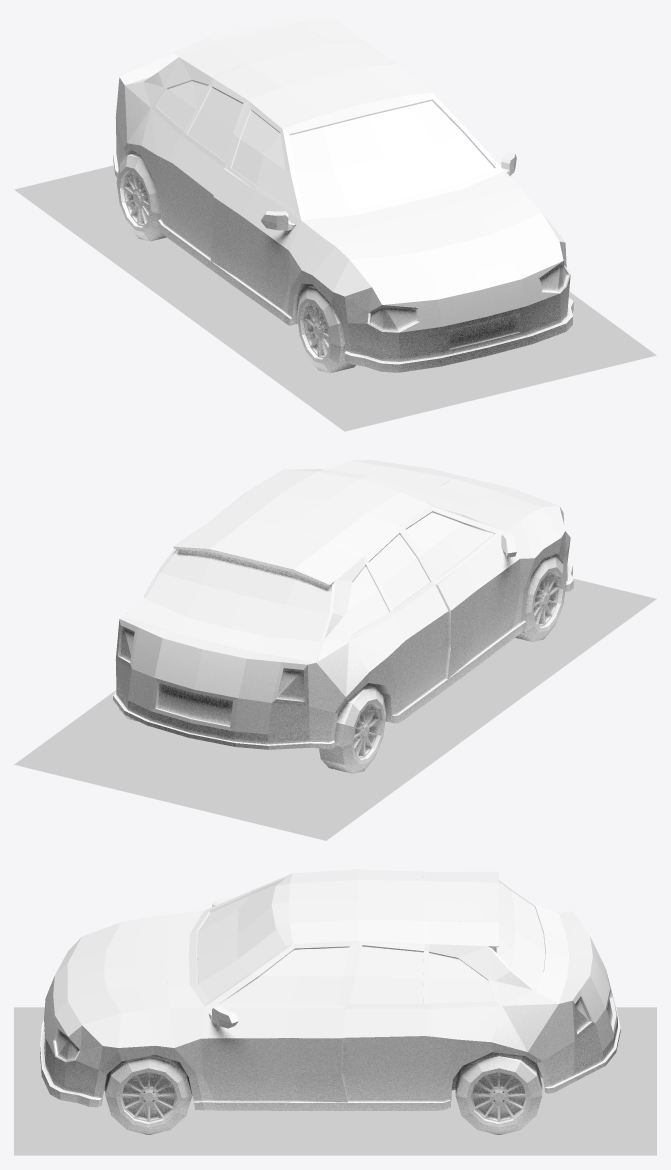
File: car.glb
3 renders of one model, top to bottom at view 1: azimuth 30°, elevation 25°; view 2: azimuth 150°, elevation 25°; view 3: azimuth 270°, elevation 25°, orthographic. The views are drawn at different scales.
Visible parts, largest first — view 1: Entity, Plane; view 2: Entity, Plane; view 3: Entity, Plane.
Boxes of the visible parts, box(x1,y1,x2,y2) form: Entity: box(113, 14, 573, 373); Plane: box(14, 165, 656, 431); Entity: box(113, 460, 573, 773); Plane: box(14, 578, 656, 840); Entity: box(40, 869, 620, 1134); Plane: box(14, 1007, 656, 1155).
Bounding box in the file's own units: 2 × 1.15 × 3.67.
1 material, 1 textured.
